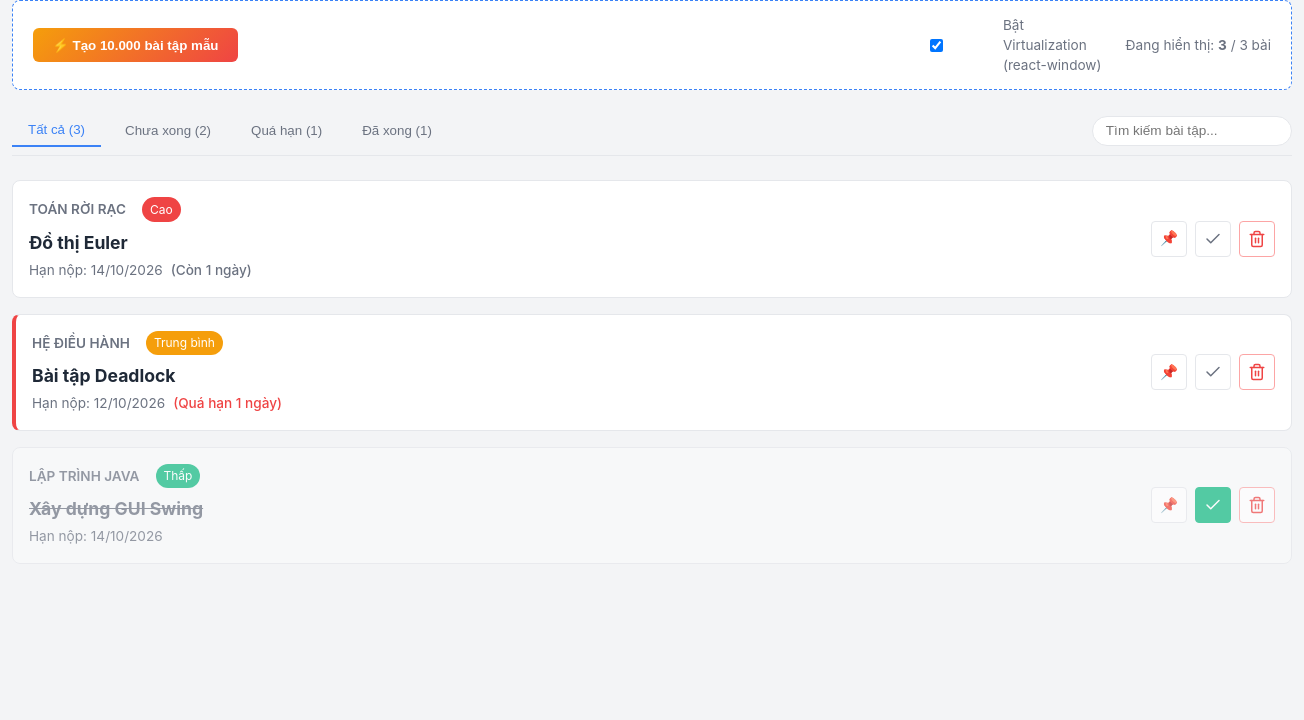
Test: Component Tests: DeadlineList Tabs & Search filtering › 1. Chuyển tab lọc bài tập: Chưa xong, Quá hạn, Đã xong
# Tab Chưa xong (2 bài)
What coordinates should you click on to do the following:
click the button "Chưa xong (2)"
I would click on:
 (168, 131)
Its box is [109,114,227,147].
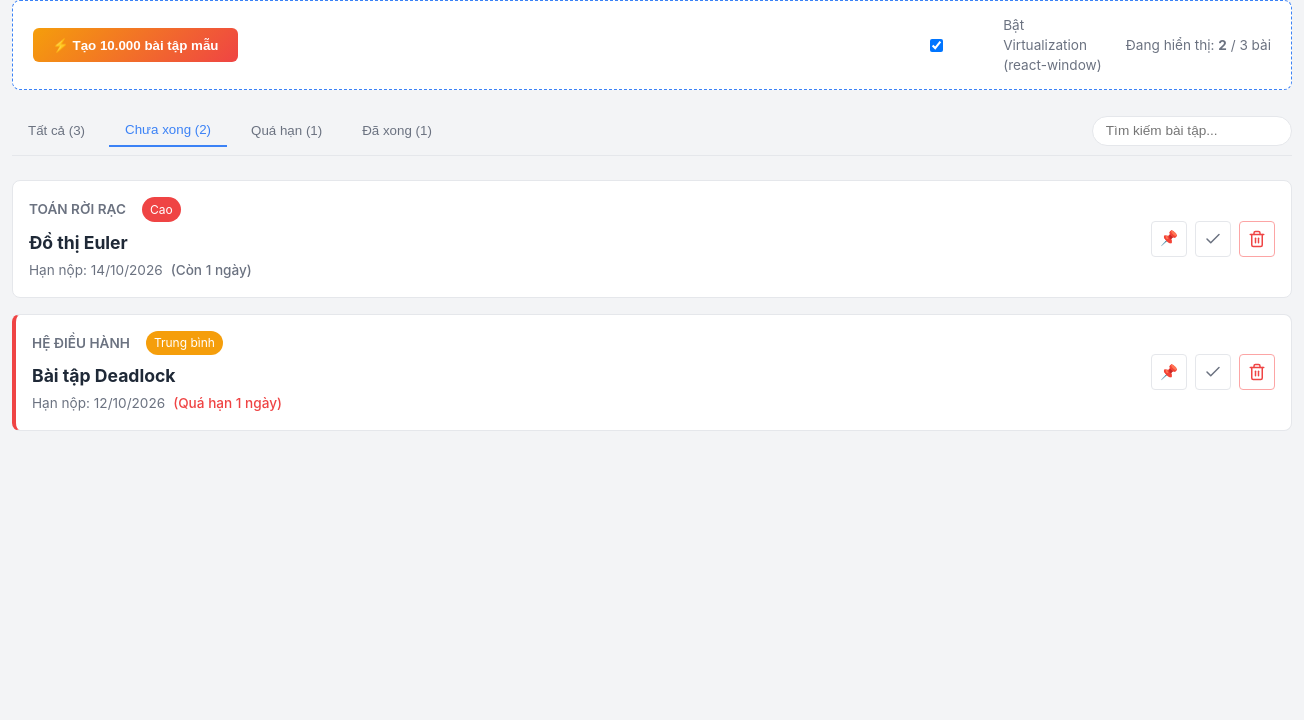
Expected: the heading "Đồ thị Euler" is shown, [29,232,128,253]
Result: the heading "Xây dựng GUI Swing" is gone
# Tab Quá hạn (1 bài)
What coordinates should you click on to do the following:
click the button "Quá hạn (1)"
I would click on:
 (287, 131)
Its box is [235,114,338,147].
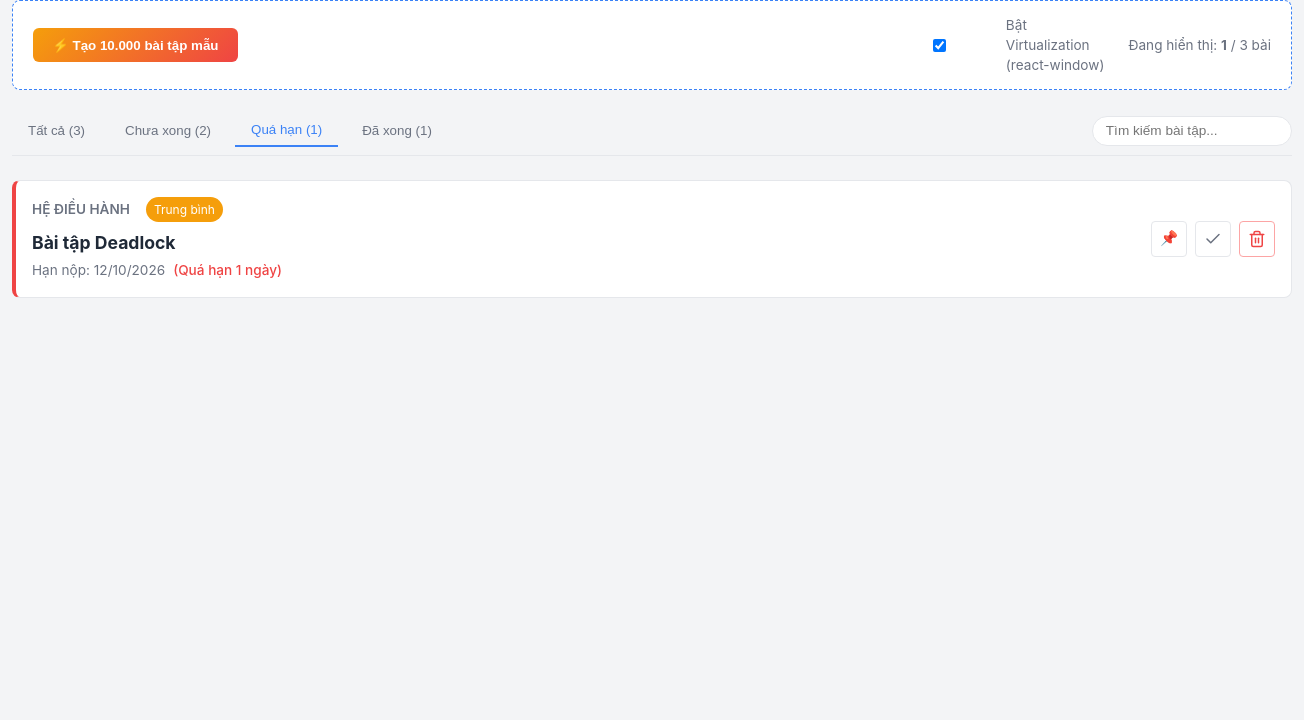
Expected: the heading "Bài tập Deadlock" is shown, [32,232,176,253]
Result: the heading "Đồ thị Euler" is gone
# Tab Đã xong (1 bài)
What coordinates should you click on to do the following:
click the button "Đã xong (1)"
I would click on:
 (397, 131)
Its box is [346,114,448,147].
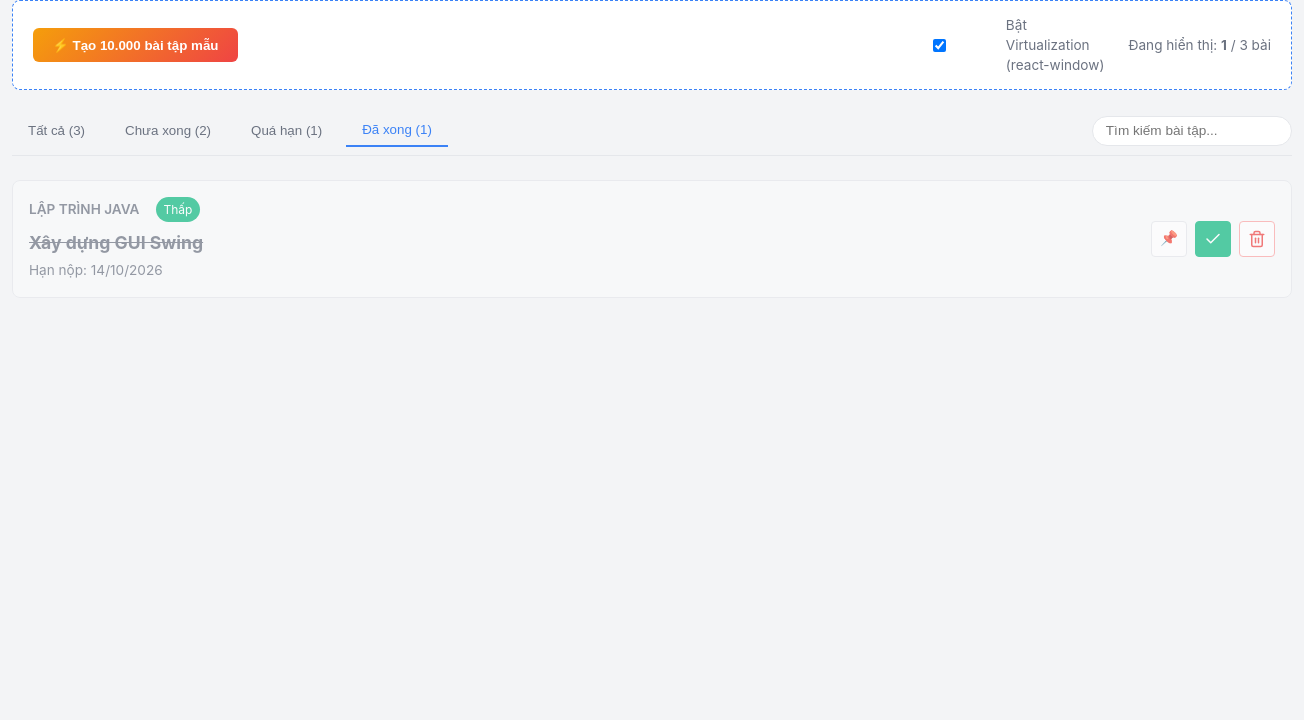
Expected: the heading "Đồ thị Euler" is not shown
Result: the heading "Xây dựng GUI Swing" is shown at [29,232,203,253]
